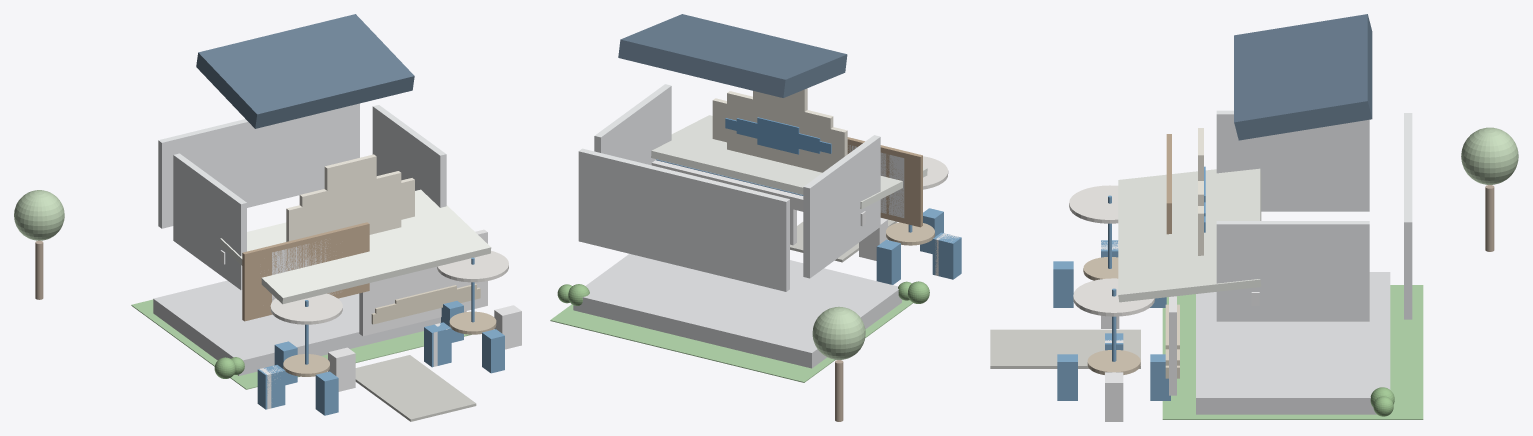
Rendered from BUILDING_CAFE_COASTAL_001_LOD_GAMEPLAY.glb.
3 renders of one model, left to right at view 1: azimuth 30°, elevation 25°; view 2: azimuth 150°, elevation 25°; view 3: azimuth 270°, elevation 25°, orthographic. The views are drawn at different scales.
Visible parts, largest first — view 1: MOD_ROOF_GABLE_STANDARD_001.001, MOD_WALL_WEATHERBOARD_WHITE_001.005, MOD_FOUNDATION_STANDARD_RECT_001.001, MOD_AWNING_COASTAL_CAFE_001_DEEP_SEATING_AWNING_GAMEPLAY_CAN, MOD_WALL_WEATHERBOARD_WHITE_001.003, MOD_WINDOW_RESIDENTIAL_LARGE_001_COASTAL_PANORAMIC_WINDOW_GA, MOD_PATH_STANDARD_001_GAMEPLAY_SURFACE, MOD_WALL_WEATHERBOARD_WHITE_001.004, MOD_AWNING_COASTAL_CAFE_001_CORNER_RETURN_AWNING_GAMEPLAY_CA, MOD_CAFE_SIGN_STANDARD_001_VERTICAL_SIDE_SIGN_GAMEPLAY_PANEL, MOD_OUTDOOR_TABLE_SEATING_COASTAL_001_UMBRELLA_TABLE_VARIAN. (×2), MOD_GROUND_GRASS_STANDARD_001_GAMEPLAY_PATCH (+14 smaller); view 2: MOD_WALL_WEATHERBOARD_WHITE_001.005, MOD_FOUNDATION_STANDARD_RECT_001.001, MOD_ROOF_GABLE_STANDARD_001.001, MOD_WALL_WEATHERBOARD_WHITE_001.003, MOD_GROUND_GRASS_STANDARD_001_GAMEPLAY_PATCH, MOD_CAFE_SIGN_STANDARD_001_BAKERY_CAFE_SHARED_PANEL_GAMEPLAY (×2), MOD_WALL_WEATHERBOARD_WHITE_001.004, MOD_CAFE_SIGN_STANDARD_001_WALL_FASCIA_SIGN_GAMEPLAY_PANEL, MOD_AWNING_COASTAL_CAFE_001_CORNER_RETURN_AWNING_GAMEPLAY_CA, MOD_AWNING_COASTAL_CAFE_001_DEEP_SEATING_AWNING_GAMEPLAY_CAN, MOD_TREE_EUCALYPTUS_STANDARD_001_GAMEPLAY_CANOPY, MOD_WINDOW_RESIDENTIAL_LARGE_001_COASTAL_PANORAMIC_WINDOW_GA (+14 smaller); view 3: MOD_FOUNDATION_STANDARD_RECT_001.001, MOD_WALL_WEATHERBOARD_WHITE_001.004, MOD_ROOF_GABLE_STANDARD_001.001, MOD_AWNING_COASTAL_CAFE_001_DEEP_SEATING_AWNING_GAMEPLAY_CAN, MOD_WALL_WEATHERBOARD_WHITE_001.003, MOD_GROUND_GRASS_STANDARD_001_GAMEPLAY_PATCH, MOD_AWNING_COASTAL_CAFE_001_CORNER_RETURN_AWNING_GAMEPLAY_CA, MOD_OUTDOOR_TABLE_SEATING_COASTAL_001_UMBRELLA_TABLE_VARIAN. (×4), MOD_PATH_STANDARD_001_GAMEPLAY_SURFACE, MOD_TREE_EUCALYPTUS_STANDARD_001_GAMEPLAY_CANOPY, MOD_WALL_WEATHERBOARD_WHITE_001.005, MOD_OUTDOOR_TABLE_SEATING_COASTAL_001_BENCH_AND_TABLE_SET_G. (×2) (+5 smaller).
Part boxes in pixels (left/top/right/bottom): MOD_ROOF_GABLE_STANDARD_001.001: left=196, top=14, right=414, bottom=128; MOD_WALL_WEATHERBOARD_WHITE_001.005: left=158, top=103, right=359, bottom=228; MOD_FOUNDATION_STANDARD_RECT_001.001: left=153, top=280, right=466, bottom=375; MOD_AWNING_COASTAL_CAFE_001_DEEP_SEATING_AWNING_GAMEPLAY_CAN: left=220, top=189, right=491, bottom=304; MOD_WALL_WEATHERBOARD_WHITE_001.003: left=173, top=153, right=246, bottom=289; MOD_WINDOW_RESIDENTIAL_LARGE_001_COASTAL_PANORAMIC_WINDOW_GA: left=242, top=222, right=369, bottom=321; MOD_PATH_STANDARD_001_GAMEPLAY_SURFACE: left=355, top=355, right=476, bottom=421; MOD_WALL_WEATHERBOARD_WHITE_001.004: left=372, top=105, right=446, bottom=207; MOD_AWNING_COASTAL_CAFE_001_CORNER_RETURN_AWNING_GAMEPLAY_CA: left=247, top=194, right=462, bottom=292; MOD_CAFE_SIGN_STANDARD_001_VERTICAL_SIDE_SIGN_GAMEPLAY_PANEL: left=324, top=154, right=376, bottom=234; MOD_OUTDOOR_TABLE_SEATING_COASTAL_001_UMBRELLA_TABLE_VARIAN. (×2): left=270, top=251, right=508, bottom=324; MOD_GROUND_GRASS_STANDARD_001_GAMEPLAY_PATCH: left=131, top=299, right=471, bottom=389; MOD_WALL_WEATHERBOARD_WHITE_001.005: left=578, top=148, right=789, bottom=291; MOD_FOUNDATION_STANDARD_RECT_001.001: left=573, top=254, right=901, bottom=368; MOD_ROOF_GABLE_STANDARD_001.001: left=618, top=14, right=847, bottom=97; MOD_WALL_WEATHERBOARD_WHITE_001.003: left=803, top=135, right=880, bottom=278; MOD_GROUND_GRASS_STANDARD_001_GAMEPLAY_PATCH: left=550, top=299, right=912, bottom=382; MOD_CAFE_SIGN_STANDARD_001_BAKERY_CAFE_SHARED_PANEL_GAMEPLAY (×2): left=727, top=91, right=833, bottom=172; MOD_WALL_WEATHERBOARD_WHITE_001.004: left=594, top=84, right=671, bottom=165; MOD_CAFE_SIGN_STANDARD_001_WALL_FASCIA_SIGN_GAMEPLAY_PANEL: left=712, top=98, right=847, bottom=166; MOD_AWNING_COASTAL_CAFE_001_CORNER_RETURN_AWNING_GAMEPLAY_CA: left=656, top=119, right=891, bottom=187; MOD_AWNING_COASTAL_CAFE_001_DEEP_SEATING_AWNING_GAMEPLAY_CAN: left=651, top=115, right=927, bottom=209; MOD_TREE_EUCALYPTUS_STANDARD_001_GAMEPLAY_CANOPY: left=812, top=306, right=865, bottom=359; MOD_WINDOW_RESIDENTIAL_LARGE_001_COASTAL_PANORAMIC_WINDOW_GA: left=847, top=137, right=922, bottom=227; MOD_FOUNDATION_STANDARD_RECT_001.001: left=1196, top=272, right=1390, bottom=414; MOD_WALL_WEATHERBOARD_WHITE_001.004: left=1216, top=221, right=1369, bottom=321; MOD_ROOF_GABLE_STANDARD_001.001: left=1234, top=14, right=1372, bottom=140; MOD_AWNING_COASTAL_CAFE_001_DEEP_SEATING_AWNING_GAMEPLAY_CAN: left=1118, top=168, right=1261, bottom=302; MOD_WALL_WEATHERBOARD_WHITE_001.003: left=1216, top=110, right=1369, bottom=211; MOD_GROUND_GRASS_STANDARD_001_GAMEPLAY_PATCH: left=1162, top=285, right=1423, bottom=419; MOD_AWNING_COASTAL_CAFE_001_CORNER_RETURN_AWNING_GAMEPLAY_CA: left=1128, top=170, right=1249, bottom=289; MOD_OUTDOOR_TABLE_SEATING_COASTAL_001_UMBRELLA_TABLE_VARIAN. (×4): left=1055, top=185, right=1154, bottom=400; MOD_PATH_STANDARD_001_GAMEPLAY_SURFACE: left=990, top=329, right=1140, bottom=368; MOD_TREE_EUCALYPTUS_STANDARD_001_GAMEPLAY_CANOPY: left=1461, top=127, right=1518, bottom=184; MOD_WALL_WEATHERBOARD_WHITE_001.005: left=1404, top=113, right=1412, bottom=319; MOD_OUTDOOR_TABLE_SEATING_COASTAL_001_BENCH_AND_TABLE_SET_G. (×2): left=1087, top=350, right=1140, bottom=421.
Size of the model in its own units: 8.6 by 6.38 by 10.34.
